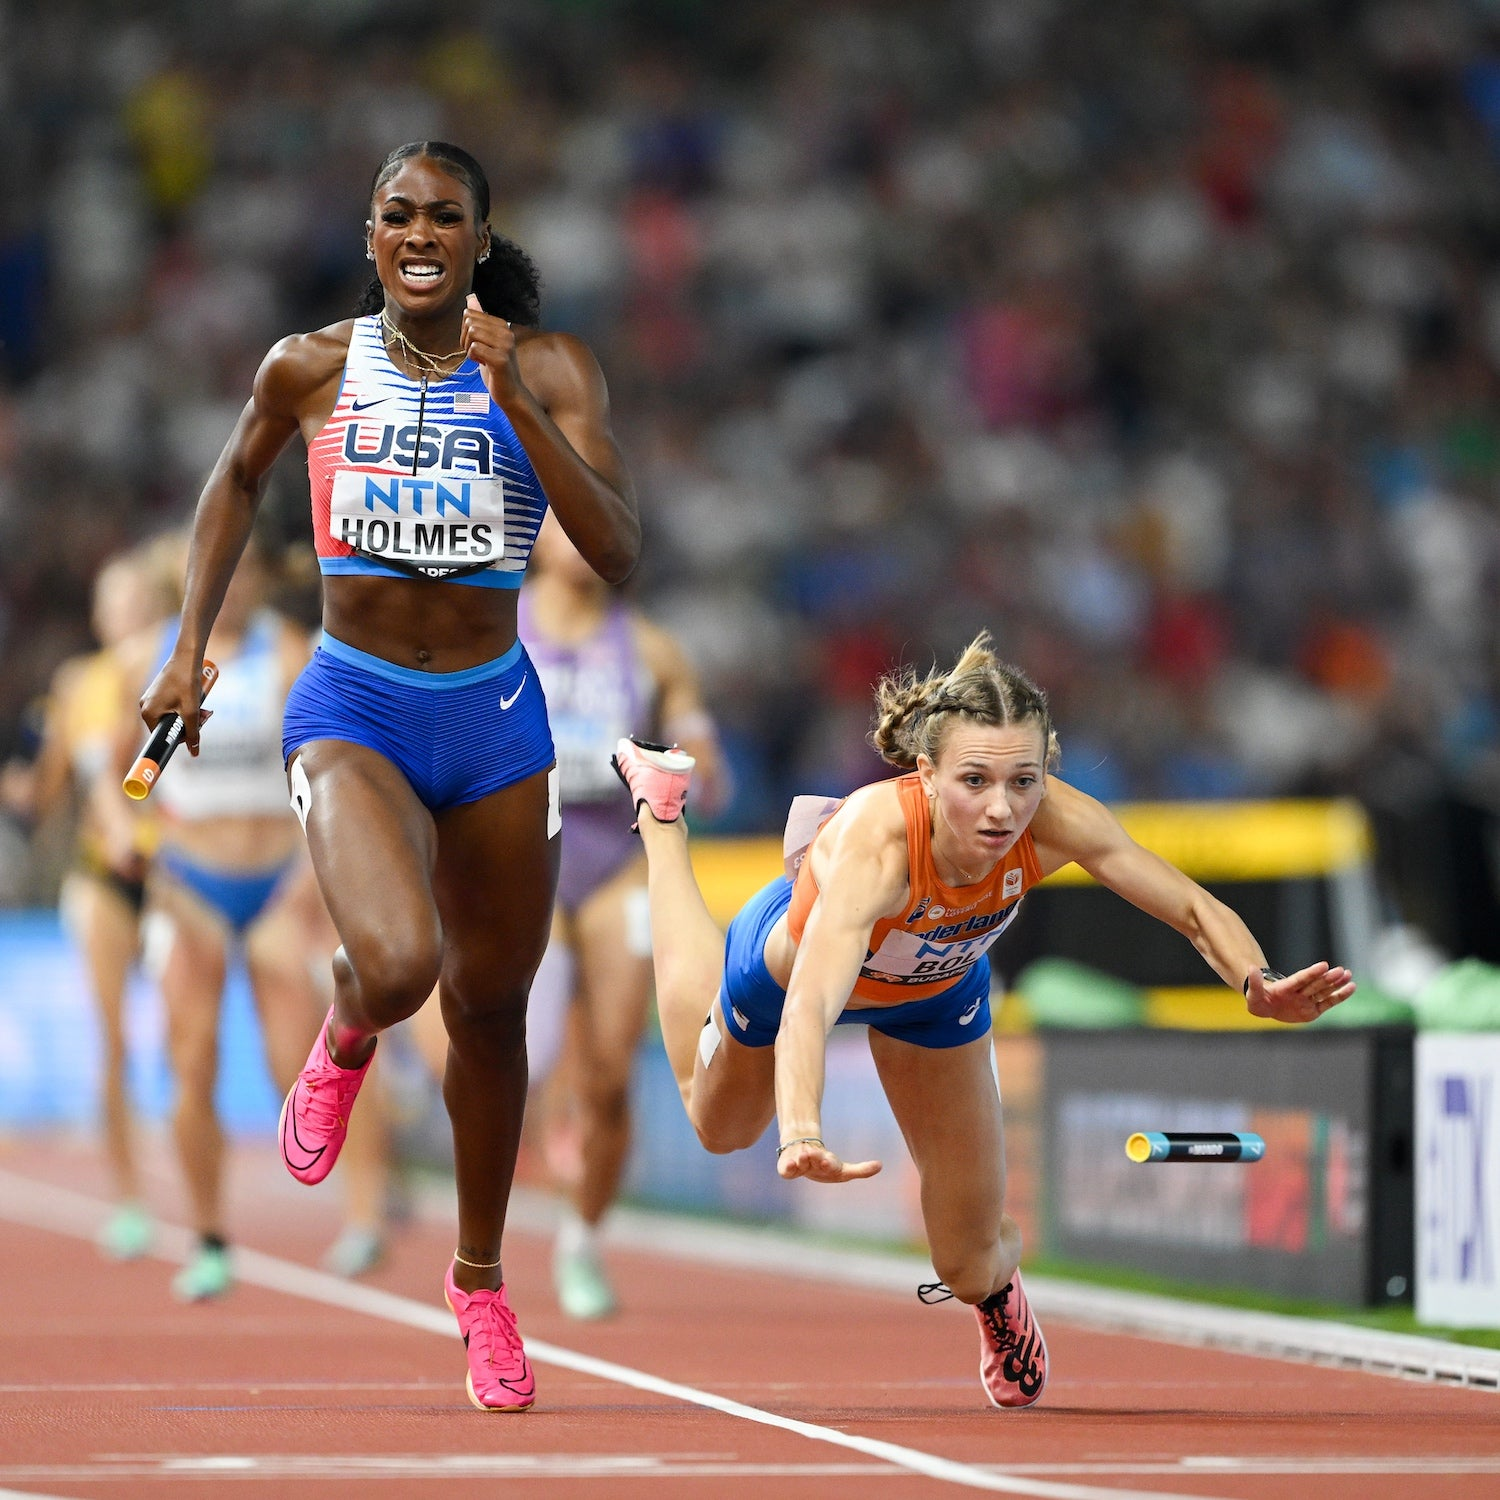runner: (126, 137, 648, 1418), (613, 657, 1359, 1422)
